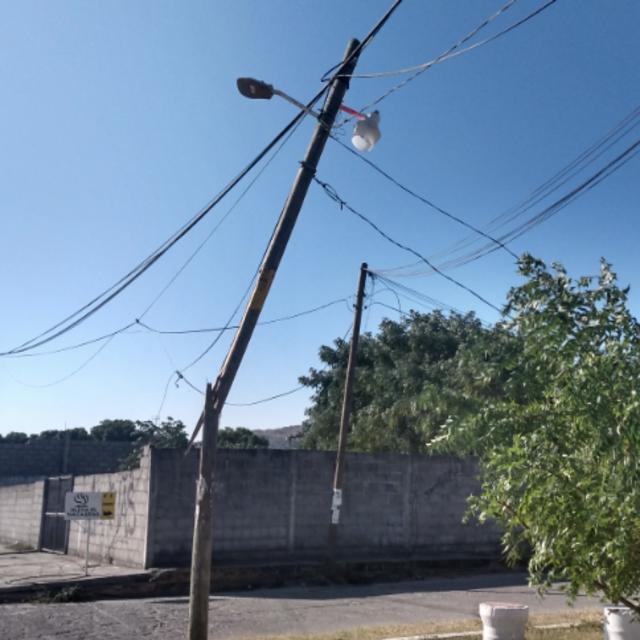Inclined Pole: (179, 30, 389, 640)
